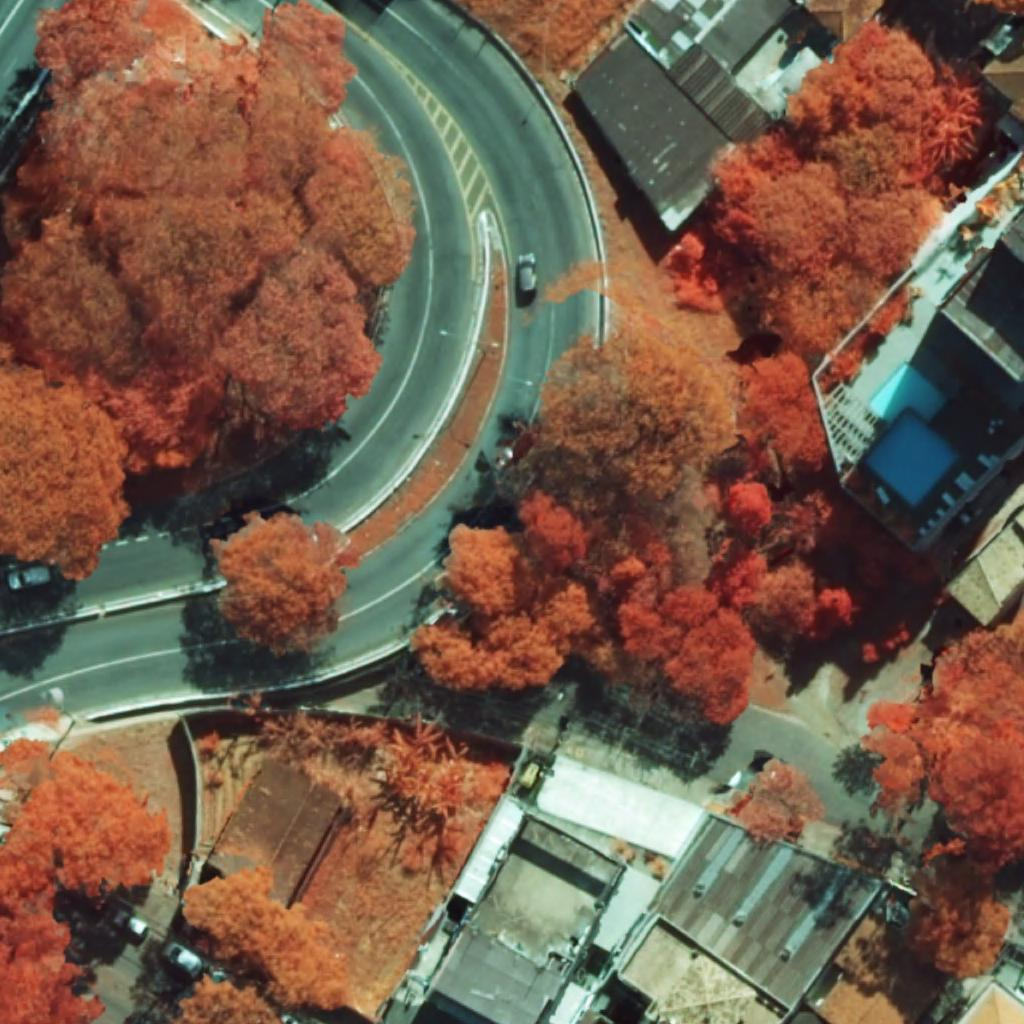pool: (865, 412, 961, 508), (868, 362, 947, 424)
